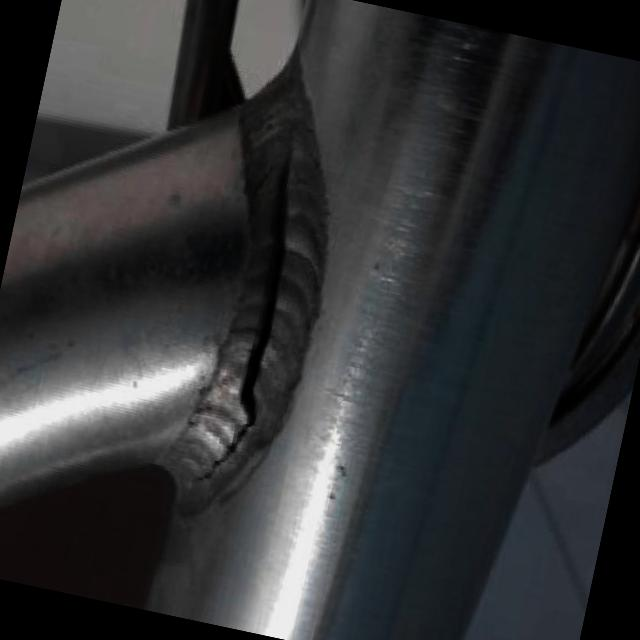crack: (229, 145, 315, 424), (198, 418, 248, 487)
